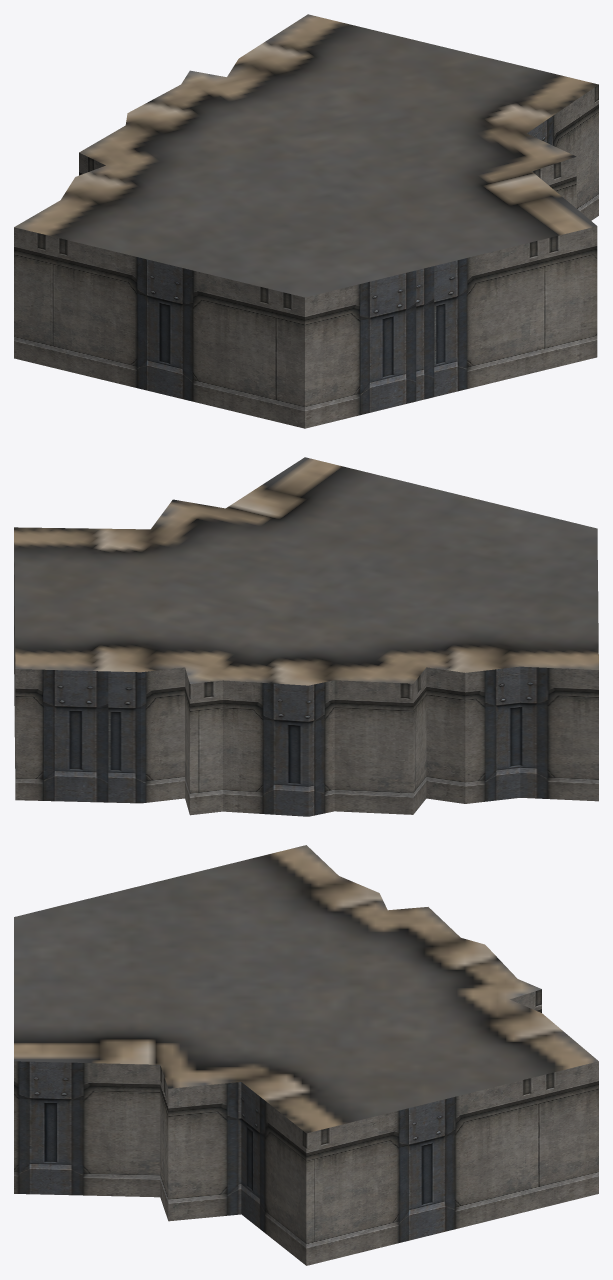
The model's file is building_heavy_26.glb.
The picture shows the model from 3 angles, top to bottom: view 1: azimuth 30°, elevation 25°; view 2: azimuth 150°, elevation 25°; view 3: azimuth 270°, elevation 25°; orthographic projection.
Parts seen in each view (by area): view 1: buildings/saxarba/building_heavy/building_heavy_26; view 2: buildings/saxarba/building_heavy/building_heavy_26; view 3: buildings/saxarba/building_heavy/building_heavy_26.
Boxes of the visible parts, x1,y1,x2,y2 form: buildings/saxarba/building_heavy/building_heavy_26: (14,14,598,428); buildings/saxarba/building_heavy/building_heavy_26: (14,457,598,816); buildings/saxarba/building_heavy/building_heavy_26: (14,845,598,1265).
Bounding box in the file's own units: 84 × 18 × 72.
